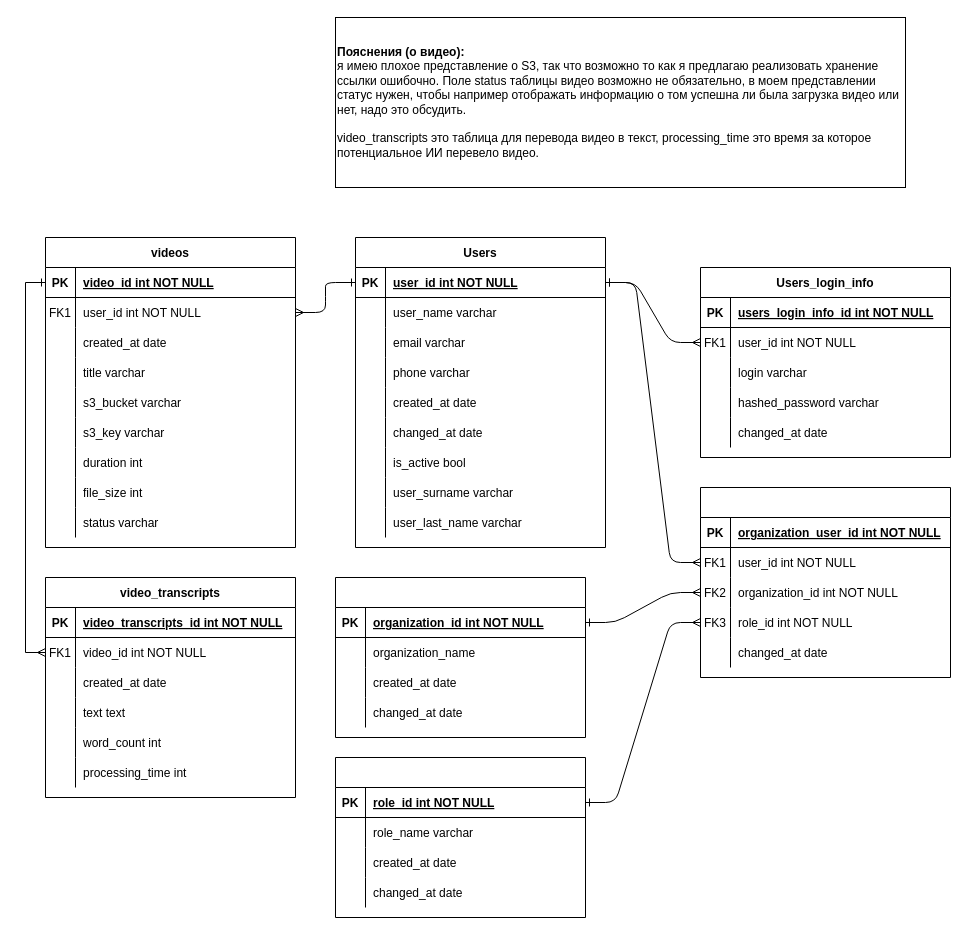
Some shapes in this 968 by 935 pixel diagram are drawn without their labels. The shapes that lost their labels are listed below. From the top down, each one's box as (x1, y1, x2, y2) in pixels, then its label:
(700, 486, 950, 678): Organizations_users
(334, 576, 586, 738): organizations
(334, 756, 586, 918): roles
